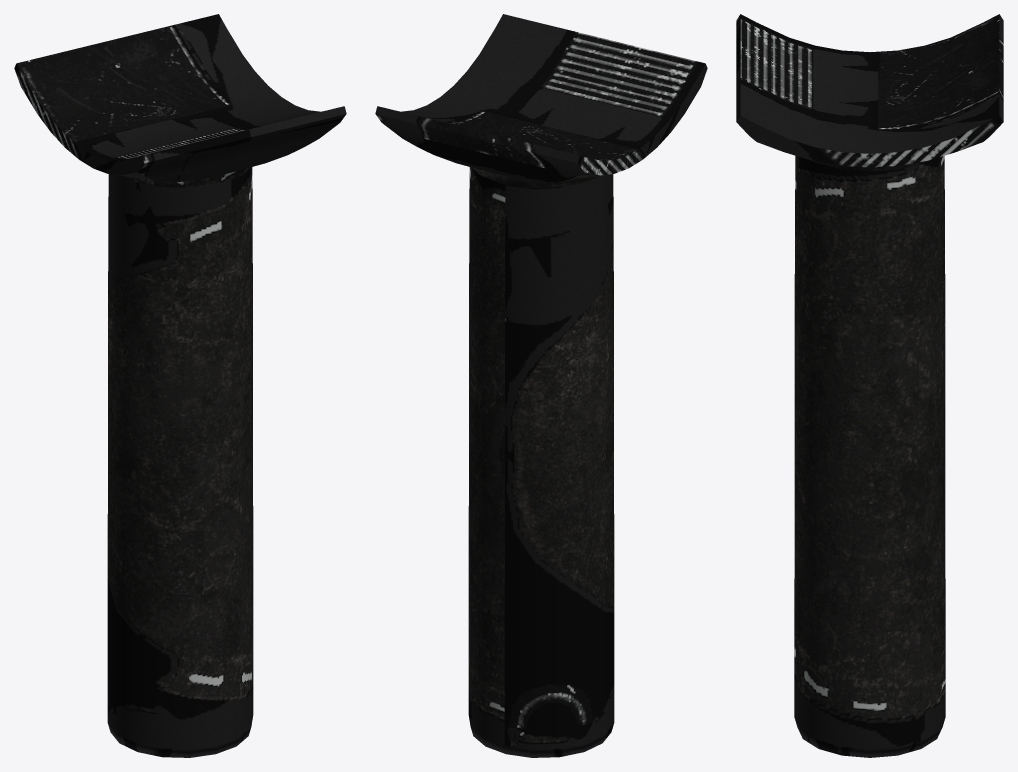
Rendered from BMX_Seat Post_DAB_Blunt.fbx.
The picture shows the model from 3 angles, left to right: view 1: azimuth 30°, elevation 25°; view 2: azimuth 150°, elevation 25°; view 3: azimuth 270°, elevation 25°; orthographic projection. The views are drawn at different scales.
Parts seen in each view (by area): view 1: BMX_SeatPost_DAB_Blunt; view 2: BMX_SeatPost_DAB_Blunt; view 3: BMX_SeatPost_DAB_Blunt.
Part boxes in pixels (x1,y1,x2,y2): BMX_SeatPost_DAB_Blunt: (14,14,346,757); BMX_SeatPost_DAB_Blunt: (375,14,707,757); BMX_SeatPost_DAB_Blunt: (736,14,1003,757).
Size of the model in its own units: 4.08 by 12.4 by 4.53.
